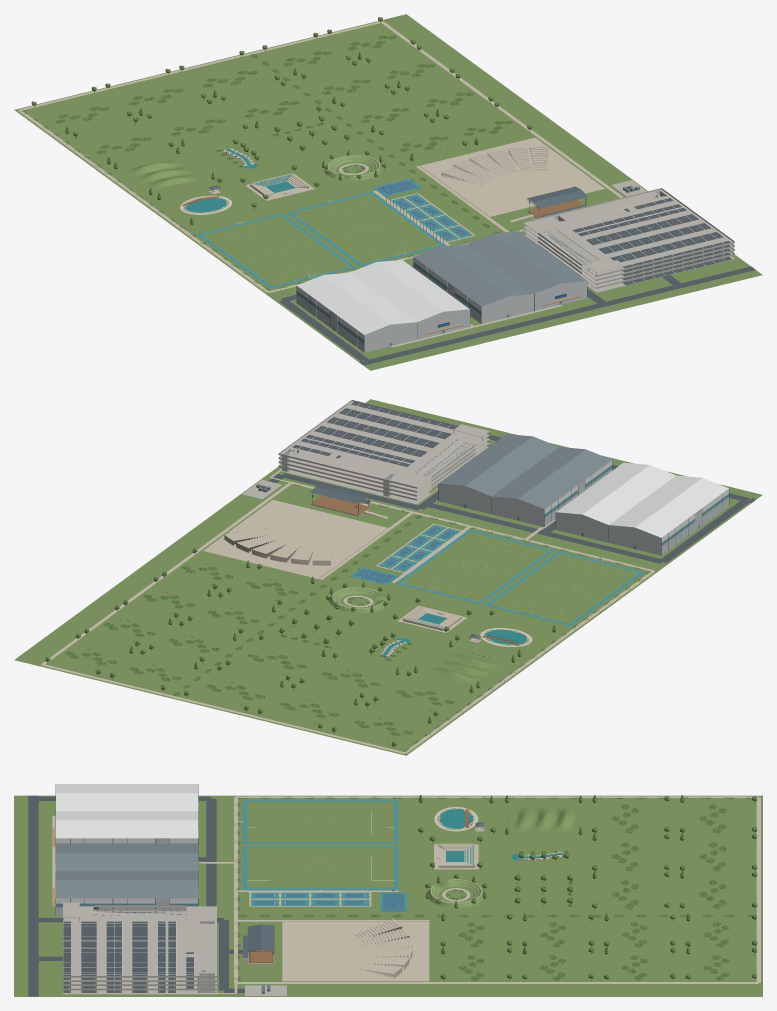
File: option-01.glb
The picture shows the model from 3 angles, top to bottom: view 1: azimuth 30°, elevation 25°; view 2: azimuth 150°, elevation 25°; view 3: azimuth 270°, elevation 25°; orthographic projection. The views are drawn at different scales.
Parts seen in each view (by area): view 1: 30 acre outdoor activity allocation, option-01 assumed site platform, soccer-1 playing surface, soccer-2 playing surface, option-01 Landscape Paved audience reservation 8000 concept , Roof_sports dual_gable insulated roof, Roof_events dual_gable insulated roof, Roof_events dual_gable insulated roof.001, Roof_sports dual_gable insulated roof.001, Garage L5 deck patch 6-1, primary-front corridor 0, option-01 Landscape Native tree lobed canopy (+15 smaller); view 2: 30 acre outdoor activity allocation, option-01 assumed site platform, option-01 Landscape Paved audience reservation 8000 concept , soccer-1 playing surface, soccer-2 playing surface, Roof_events dual_gable insulated roof, Roof_sports dual_gable insulated roof, Roof_events dual_gable insulated roof.001, Roof_sports dual_gable insulated roof.001, Garage L5 deck patch 6-1, option-01 Landscape Native tree lobed canopy, option-01 Landscape Prairie dimensional folded blades (+15 smaller); view 3: 30 acre outdoor activity allocation, option-01 assumed site platform, option-01 Landscape Paved audience reservation 8000 concept , soccer-1 playing surface, soccer-2 playing surface, Roof_sports dual_gable insulated roof, Roof_sports dual_gable insulated roof.001, Roof_events dual_gable insulated roof, Roof_events dual_gable insulated roof.001, Garage L5 deck patch 6-1, primary-front corridor 0, option-01 Landscape Native tree lobed canopy (+24 smaller).
Boxes of the visible parts, left/top/right/bottom form: 30 acre outdoor activity allocation: left=14, top=20, right=624, bottom=294; option-01 assumed site platform: left=267, top=14, right=762, bottom=370; soccer-1 playing surface: left=202, top=216, right=349, bottom=286; soccer-2 playing surface: left=292, top=194, right=440, bottom=264; option-01 Landscape Paved audience reservation 8000 concept : left=420, top=137, right=604, bottom=216; Roof_sports dual_gable insulated roof: left=297, top=272, right=416, bottom=334; Roof_events dual_gable insulated roof: left=414, top=244, right=533, bottom=306; Roof_events dual_gable insulated roof.001: left=467, top=231, right=586, bottom=293; Roof_sports dual_gable insulated roof.001: left=350, top=260, right=469, bottom=322; Garage L5 deck patch 6-1: left=572, top=203, right=704, bottom=256; primary-front corridor 0: left=359, top=266, right=755, bottom=365; option-01 Landscape Native tree lobed canopy: left=31, top=17, right=532, bottom=207; 30 acre outdoor activity allocation: left=37, top=480, right=658, bottom=755; option-01 assumed site platform: left=14, top=399, right=762, bottom=665; option-01 Landscape Paved audience reservation 8000 concept : left=203, top=500, right=387, bottom=578; soccer-1 playing surface: left=491, top=554, right=638, bottom=623; soccer-2 playing surface: left=401, top=532, right=548, bottom=601; Roof_events dual_gable insulated roof: left=492, top=447, right=611, bottom=509; Roof_sports dual_gable insulated roof: left=609, top=475, right=728, bottom=537; Roof_events dual_gable insulated roof.001: left=439, top=434, right=558, bottom=496; Roof_sports dual_gable insulated roof.001: left=556, top=462, right=675, bottom=524; Garage L5 deck patch 6-1: left=307, top=416, right=439, bottom=469; option-01 Landscape Native tree lobed canopy: left=45, top=548, right=494, bottom=746; option-01 Landscape Prairie dimensional folded blades: left=66, top=483, right=650, bottom=751; 30 acre outdoor activity allocation: left=232, top=795, right=762, bottom=984; option-01 assumed site platform: left=14, top=795, right=762, bottom=996; option-01 Landscape Paved audience reservation 8000 concept : left=282, top=922, right=429, bottom=981; soccer-1 playing surface: left=247, top=802, right=394, bottom=842; soccer-2 playing surface: left=247, top=848, right=394, bottom=888; Roof_sports dual_gable insulated roof: left=56, top=784, right=198, bottom=811; Roof_sports dual_gable insulated roof.001: left=56, top=811, right=198, bottom=838; Roof_events dual_gable insulated roof: left=56, top=844, right=198, bottom=871; Roof_events dual_gable insulated roof.001: left=56, top=871, right=198, bottom=898; Garage L5 deck patch 6-1: left=94, top=924, right=186, bottom=970; primary-front corridor 0: left=28, top=795, right=38, bottom=996; option-01 Landscape Native tree lobed canopy: left=418, top=796, right=757, bottom=979.
Size of the model in its own units: 340 by 19.06 by 535.
